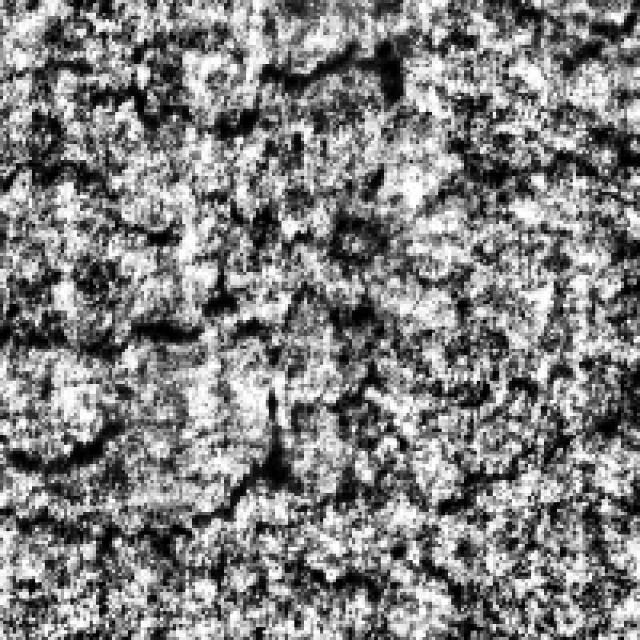Pitted_Surface: (0, 195, 378, 554), (208, 352, 637, 608), (26, 28, 417, 164)
